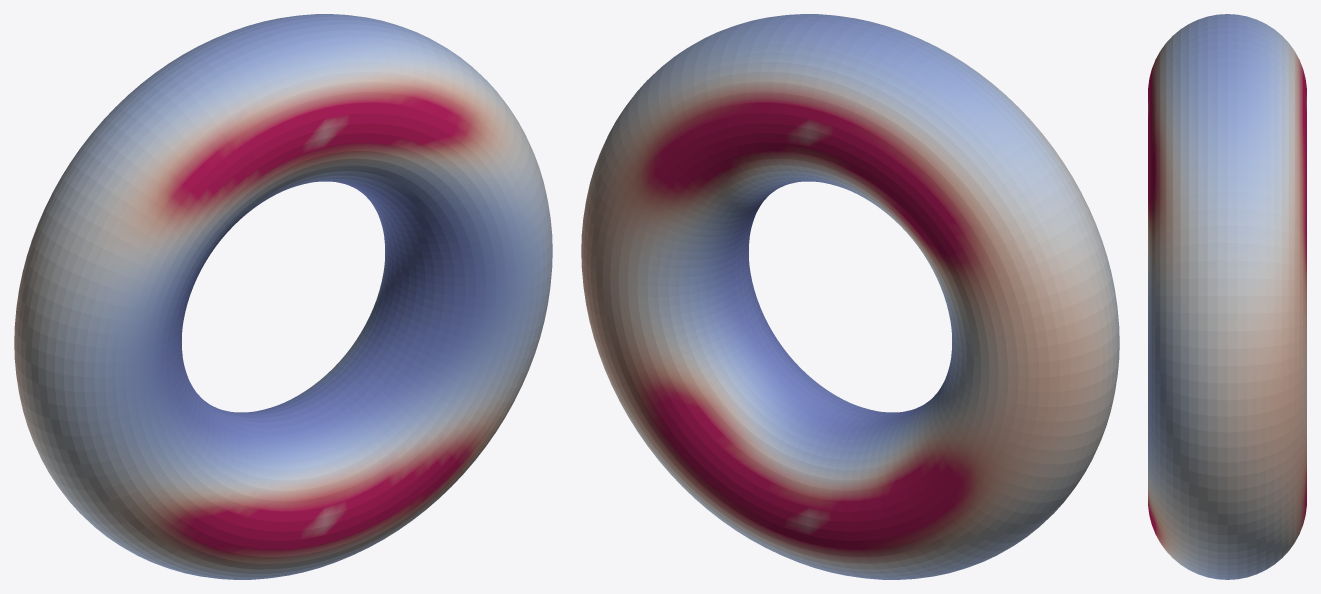
The picture shows the model from 3 angles, left to right: view 1: azimuth 30°, elevation 25°; view 2: azimuth 150°, elevation 25°; view 3: azimuth 270°, elevation 25°; orthographic projection. The views are drawn at different scales.
Visible parts, largest first — view 1: world; view 2: world; view 3: world.
Part boxes in pixels (x1,y1,x2,y2): world: (14, 14, 552, 579); world: (581, 14, 1119, 579); world: (1148, 14, 1306, 579).
Bounding box in the file's own units: 21.33 × 21.33 × 5.99.
